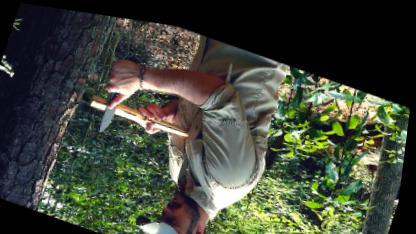knife: (92, 61, 136, 136)
